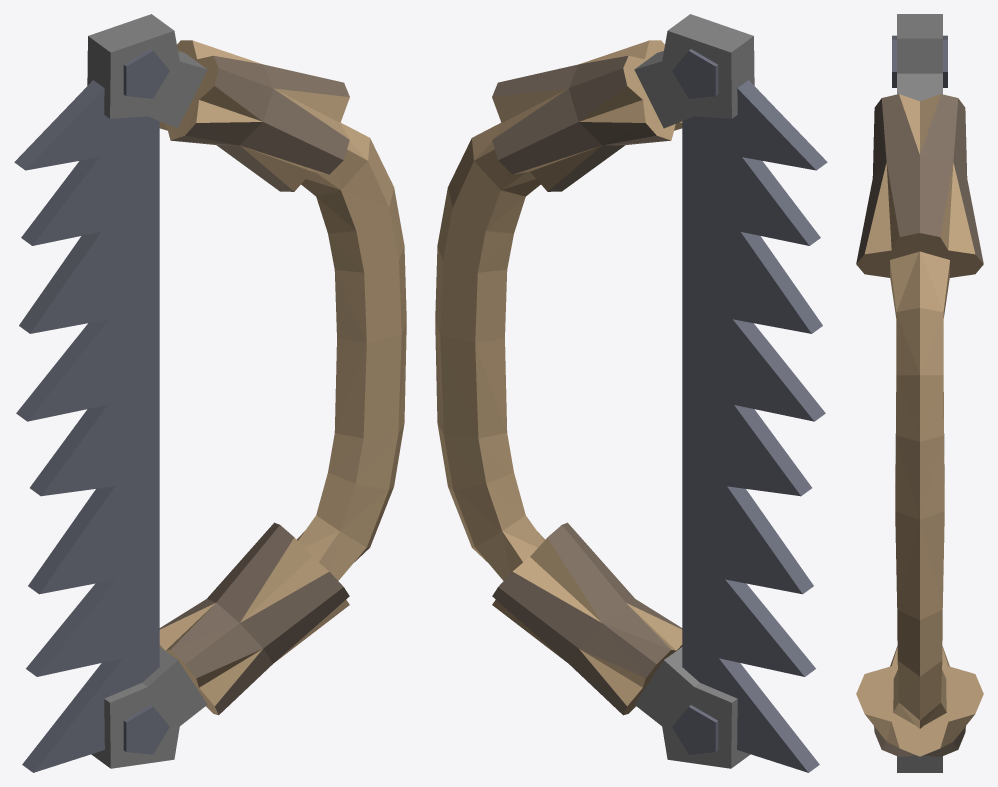
File: _saw_2.fbx
3 renders of one model, left to right at view 1: azimuth 30°, elevation 25°; view 2: azimuth 150°, elevation 25°; view 3: azimuth 270°, elevation 25°, orthographic.
Visible parts, largest first — view 1: saw_2; view 2: saw_2; view 3: saw_2.
Boxes of the visible parts, x1,y1,x2,y2 form: saw_2: [14, 14, 406, 772]; saw_2: [435, 14, 827, 772]; saw_2: [856, 14, 983, 772].
Bounding box in the file's own units: 49.1 × 88.39 × 13.94.
